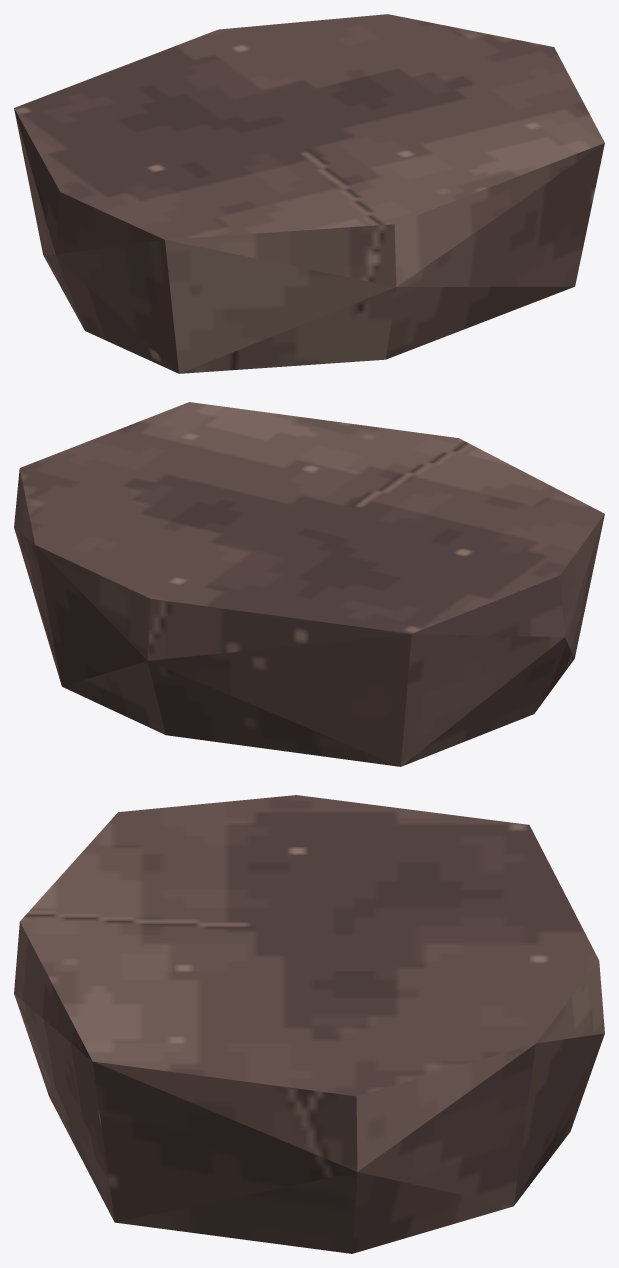
File: SM_RK13_StepFlat.fbx
3 renders of one model, top to bottom at view 1: azimuth 30°, elevation 25°; view 2: azimuth 150°, elevation 25°; view 3: azimuth 270°, elevation 25°, orthographic. The views are drawn at different scales.
Parts seen in each view (by area): view 1: RK13_Rock; view 2: RK13_Rock; view 3: RK13_Rock.
Part boxes in pixels (x1=…): RK13_Rock: x1=14, y1=14, x2=604, y2=373; RK13_Rock: x1=14, y1=402, x2=604, y2=766; RK13_Rock: x1=14, y1=795, x2=604, y2=1253.
Bounding box in the file's own units: 0.8 × 0.21 × 0.65.
